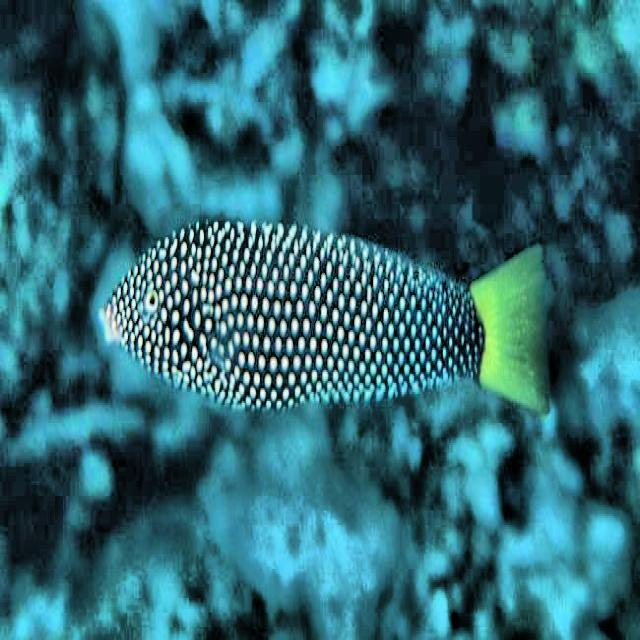fish: (100, 213, 555, 416)
